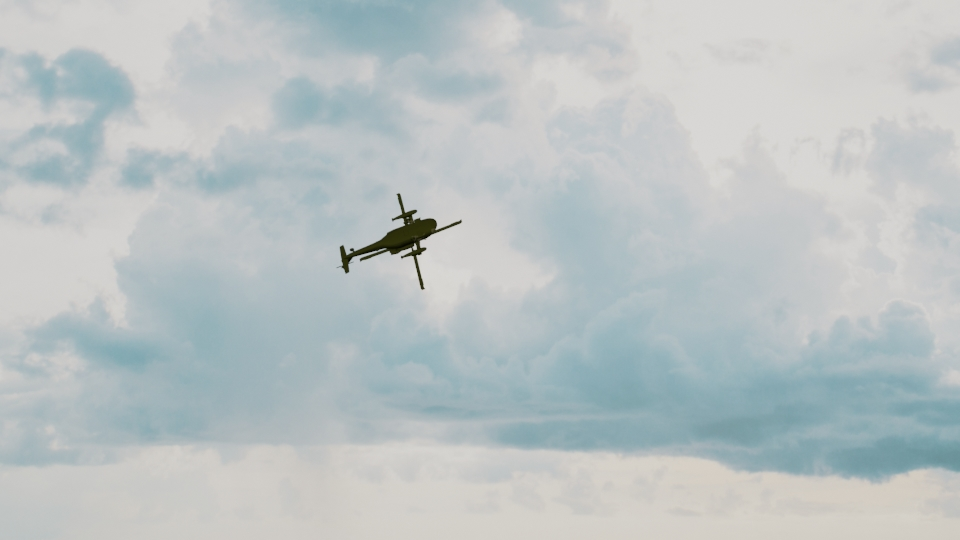heli: (336, 189, 464, 290)
